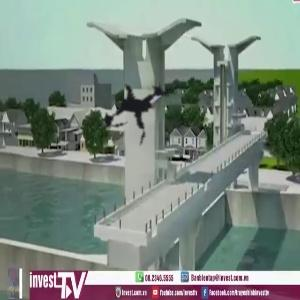drone: (73, 41, 211, 179)
